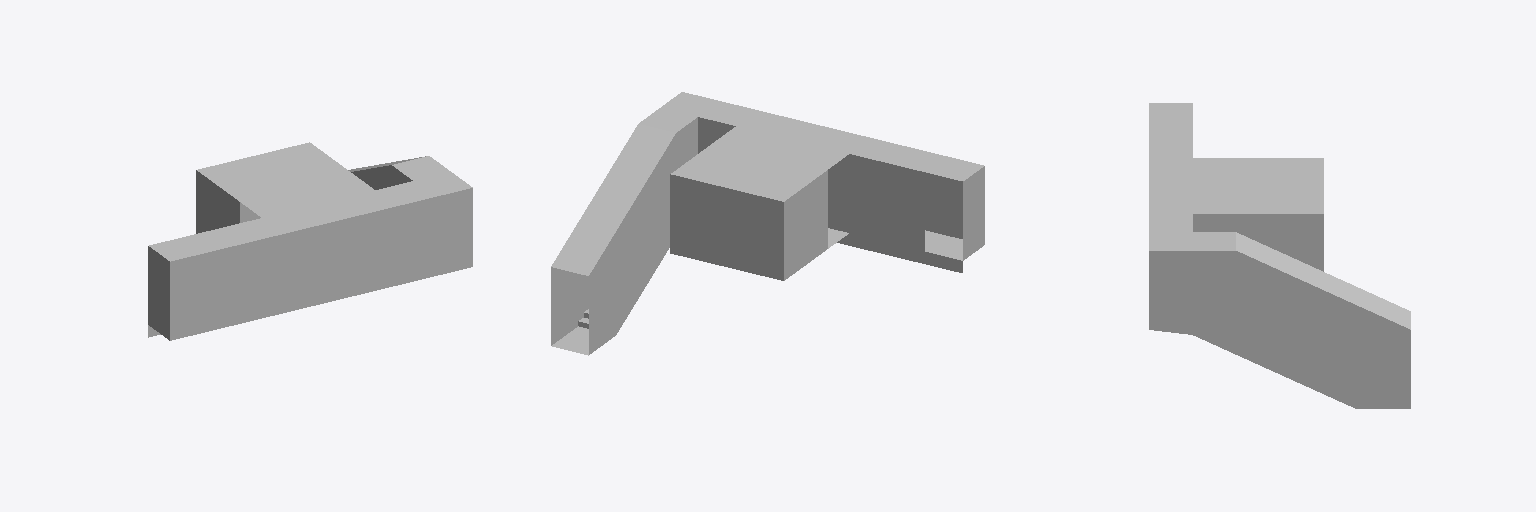
File: floor_window.obj
The picture shows the model from 3 angles: view 1: azimuth 30°, elevation 25°; view 2: azimuth 150°, elevation 25°; view 3: azimuth 270°, elevation 25°; orthographic projection.
Bounding box in the file's own units: 800 × 400 × 600.